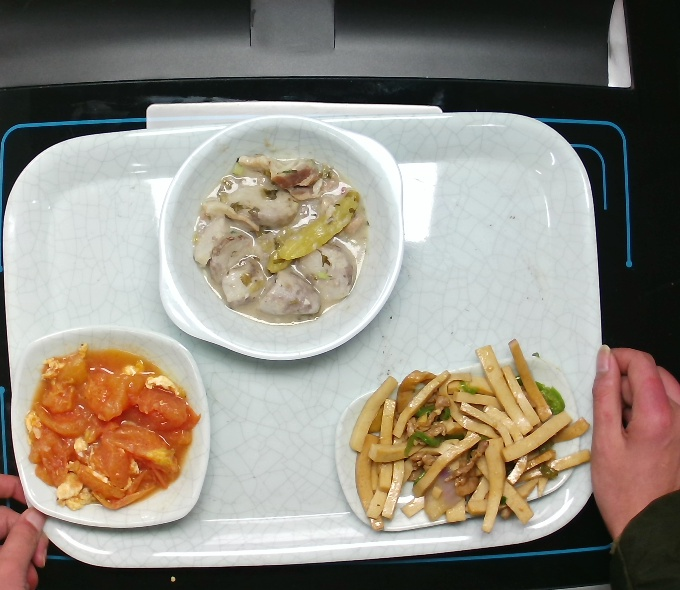wcq-FanQieChaoDan: (19, 340, 206, 516)
wcq-QianYeDouFu: (344, 335, 600, 537)
wcq-YangYu: (189, 147, 375, 331)
